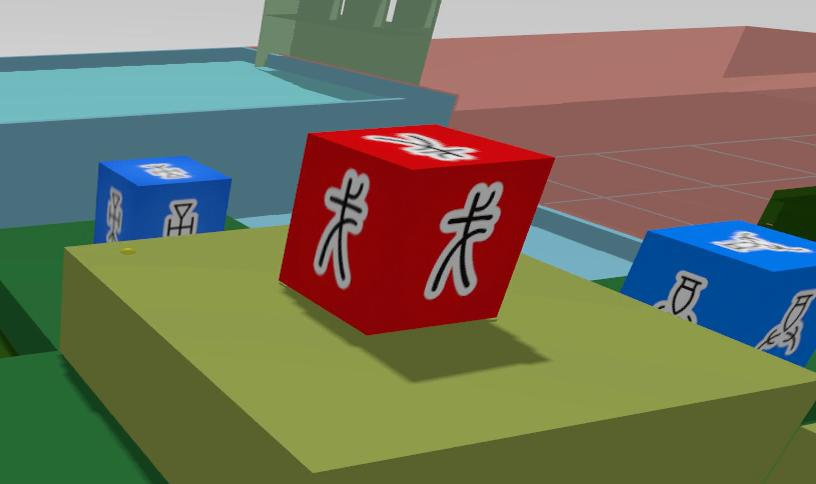KFS_FAKE: (282, 123, 552, 333), (313, 169, 368, 288)
KFS_REAL: (621, 220, 815, 365), (93, 156, 231, 241), (758, 289, 815, 357), (653, 270, 707, 322)
